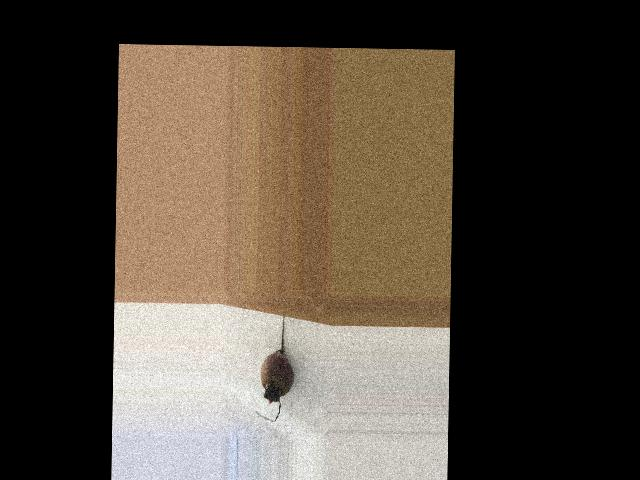beet: (255, 313, 295, 421)
